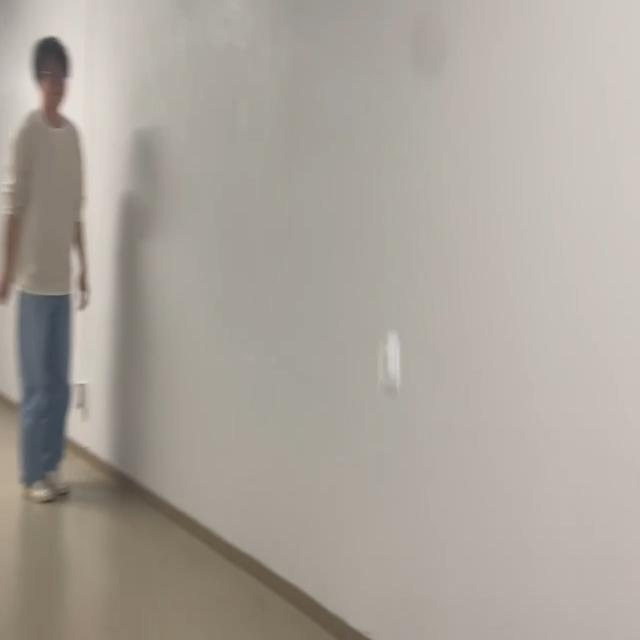paper: (382, 333, 400, 398)
